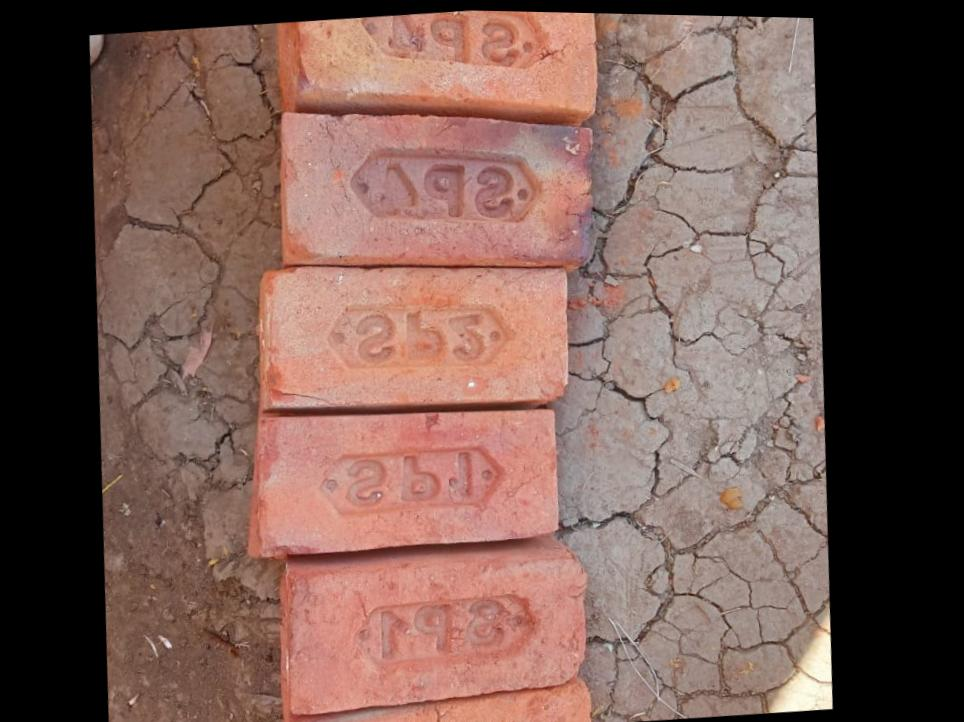brick: (258, 90, 605, 278), (251, 244, 578, 417), (245, 395, 570, 566), (267, 549, 592, 716), (288, 7, 601, 131), (281, 674, 599, 722)
